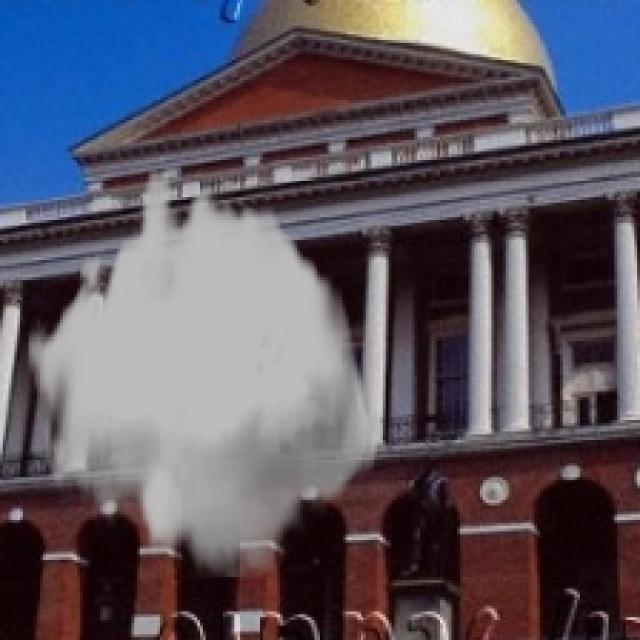smoke: (26, 172, 386, 577)
